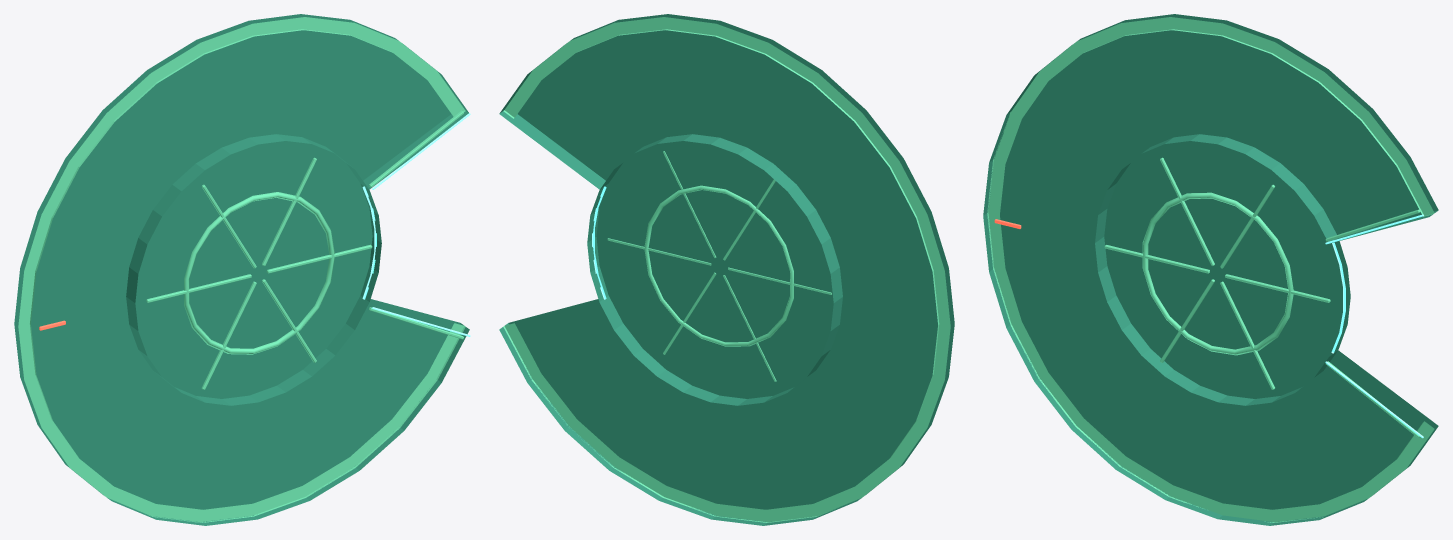
Rendered from bio-panel-fun7-low.glb.
3 views of the same model, side by side, from view 1: azimuth 30°, elevation 25°; view 2: azimuth 150°, elevation 25°; view 3: azimuth 330°, elevation 25° (orthographic).
Visible parts, largest first — view 1: RENDER_PANEL_SHELL, RENDER_PANEL_FRAME, RENDER_PANEL_SIGNAL; view 2: RENDER_PANEL_SHELL, RENDER_PANEL_FRAME; view 3: RENDER_PANEL_SHELL, RENDER_PANEL_FRAME, RENDER_PANEL_SIGNAL.
Boxes of the visible parts, <box> form: RENDER_PANEL_SHELL: <box>14,14,469,525</box>; RENDER_PANEL_FRAME: <box>18,17,465,522</box>; RENDER_PANEL_SIGNAL: <box>362,113,470,336</box>; RENDER_PANEL_SHELL: <box>499,14,954,525</box>; RENDER_PANEL_FRAME: <box>503,17,950,522</box>; RENDER_PANEL_SHELL: <box>983,14,1438,525</box>; RENDER_PANEL_FRAME: <box>987,17,1434,522</box>; RENDER_PANEL_SIGNAL: <box>1325,214,1423,438</box>.
Size of what is drawn, in the model's own units: 38.93 by 41 by 1.95.
